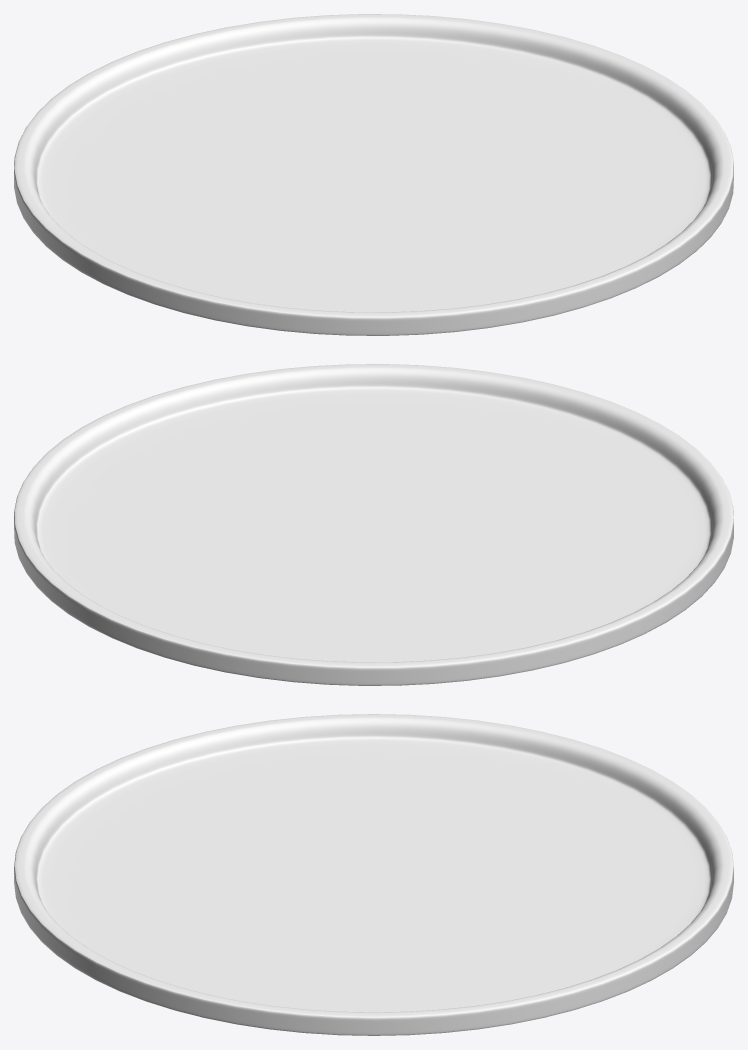
Rendered from HP_wideplate.obj.
The picture shows the model from 3 angles, top to bottom: view 1: azimuth 30°, elevation 25°; view 2: azimuth 150°, elevation 25°; view 3: azimuth 270°, elevation 25°; orthographic projection.
Parts seen in each view (by area): view 1: HP_wideplate.001; view 2: HP_wideplate.001; view 3: HP_wideplate.001.
Part boxes in pixels (x1,y1,x2,y2): HP_wideplate.001: [14, 14, 733, 335]; HP_wideplate.001: [14, 364, 733, 685]; HP_wideplate.001: [14, 714, 733, 1035].
Size of the model in its own units: 0.215 by 0.00637 by 0.215.
